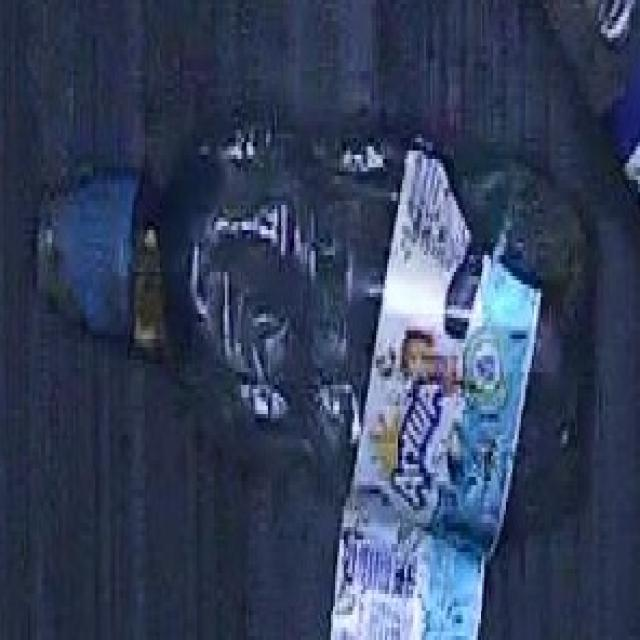litter: (12, 89, 591, 556)
